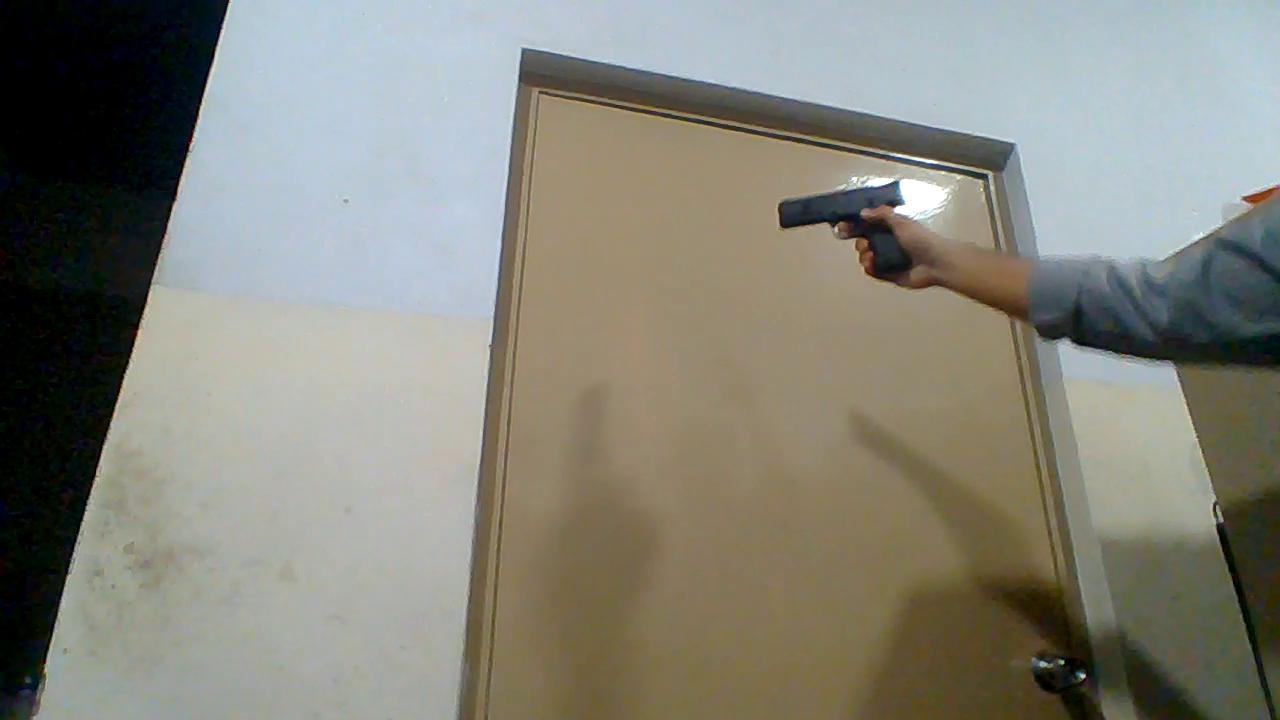weapon: (776, 182, 912, 272)
